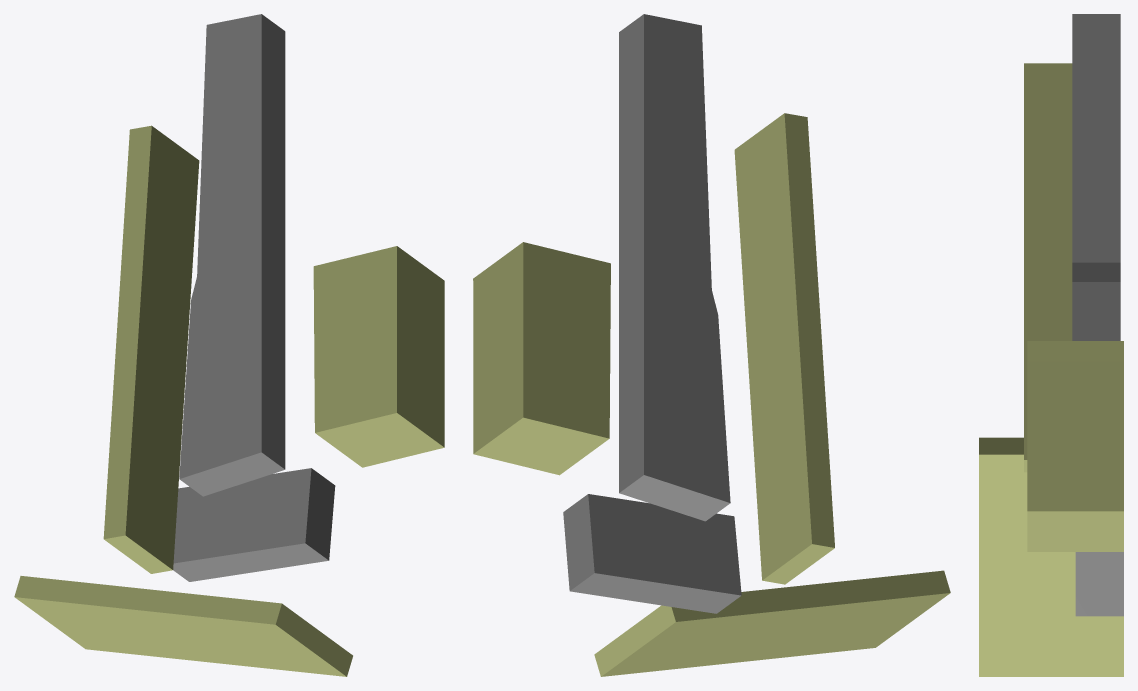
3 renders of one model, left to right at view 1: azimuth 30°, elevation 25°; view 2: azimuth 150°, elevation 25°; view 3: azimuth 270°, elevation 25°, orthographic. The views are drawn at different scales.
Visible parts, largest first — view 1: 0_2_1_3_0_3_1_3_0; view 2: 0_2_1_3_0_3_1_3_0; view 3: 0_2_1_3_0_3_1_3_0.
Part boxes in pixels (box(x1,y1,x2,y2)): 0_2_1_3_0_3_1_3_0: box(14, 14, 444, 676); 0_2_1_3_0_3_1_3_0: box(473, 14, 950, 676); 0_2_1_3_0_3_1_3_0: box(979, 14, 1123, 676).
Bounding box in the file's own units: 27.88 × 43.01 × 9.
